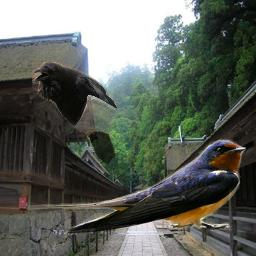Crow: (32, 62, 117, 166)
Swallow: (22, 138, 246, 234)
